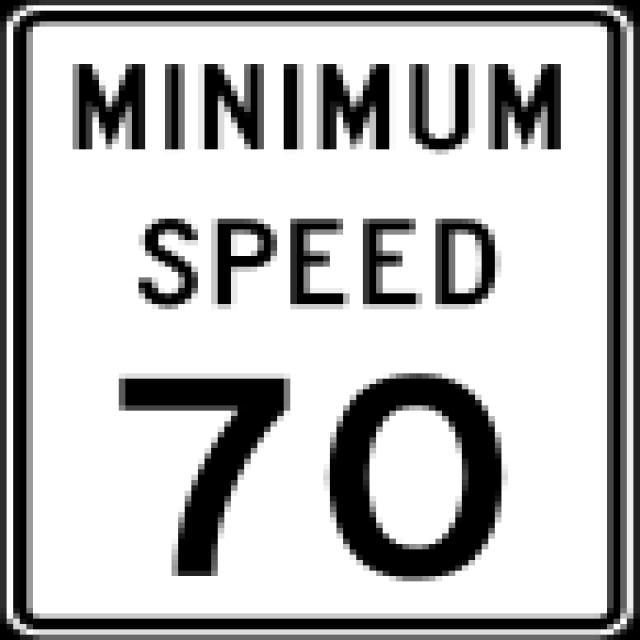Speed Limit -70-: (82, 201, 552, 600)
